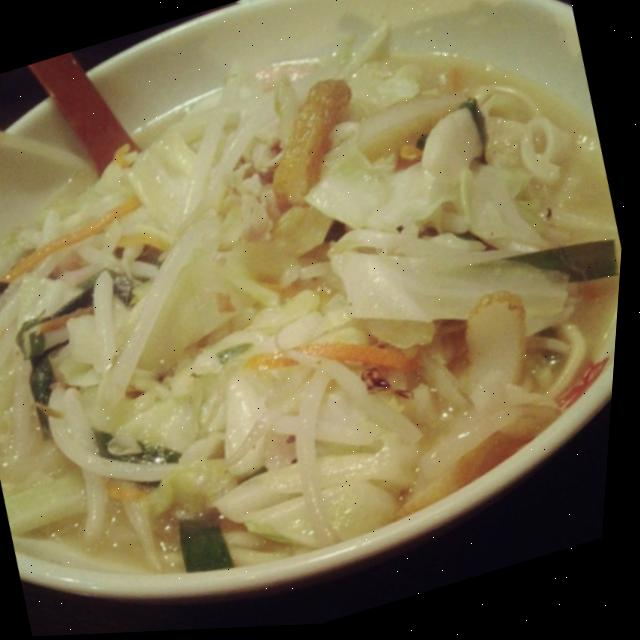带馅早点: (0, 0, 640, 576)
